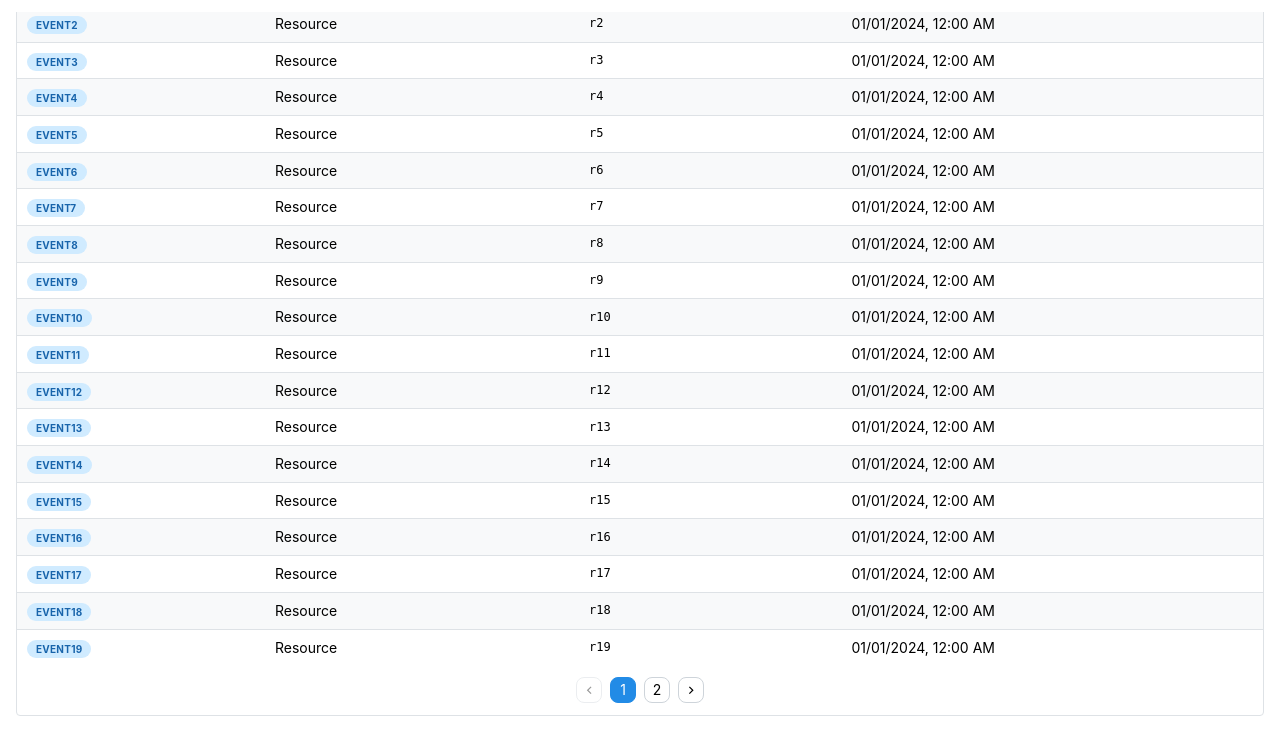
it: AdminAuditPage › paginates through audit events
This screenshot has width=1280, height=732.
// Click the page 2 button. Mantine Pagination renders buttons with aria-labels like "2".
Click the button "2". click: [657, 690]
box: [644,677,670,703]
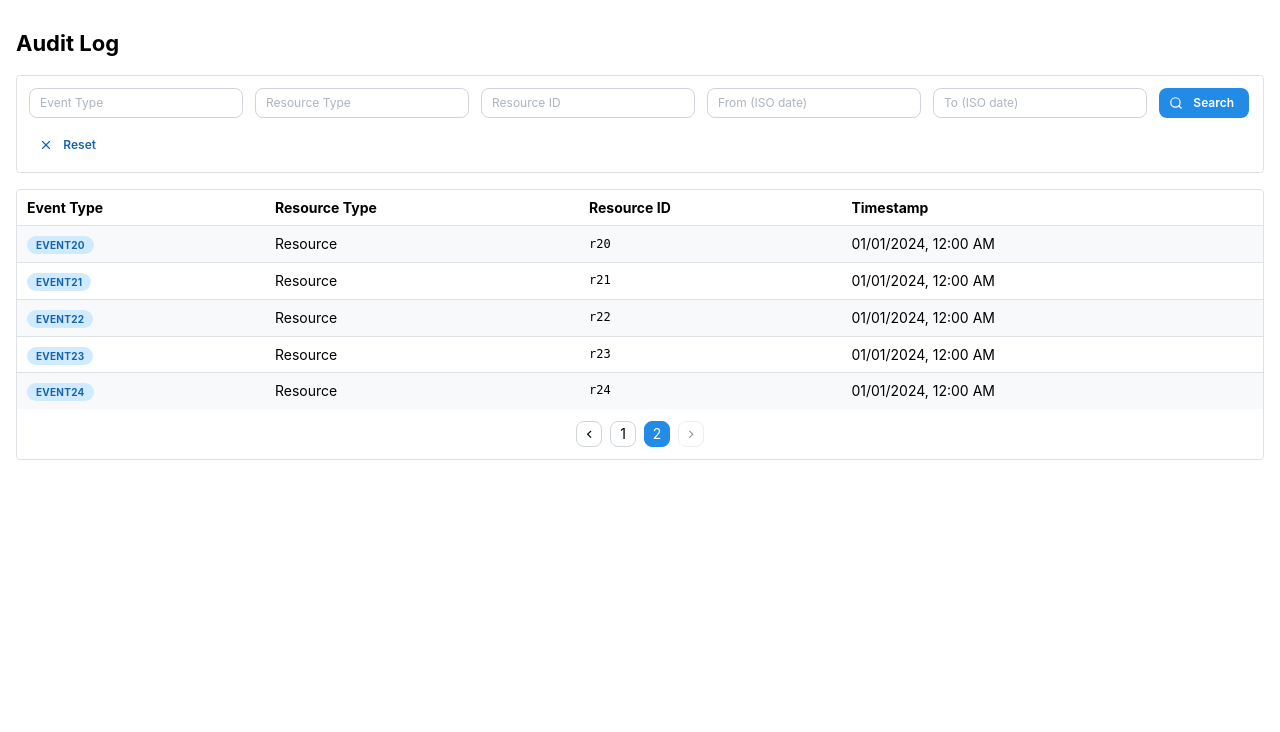
Expected: the text "Event20" is shown, [36,238,85,254]
